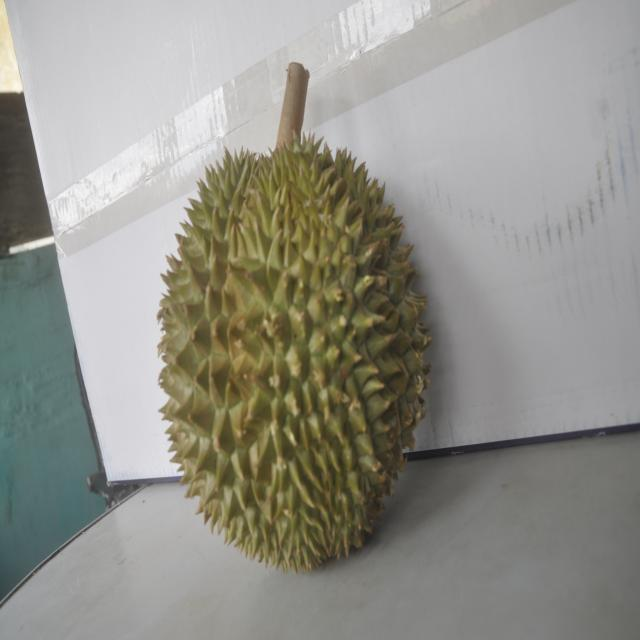mature: (154, 122, 421, 575)
